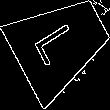L_NE: (34, 18, 88, 69)
